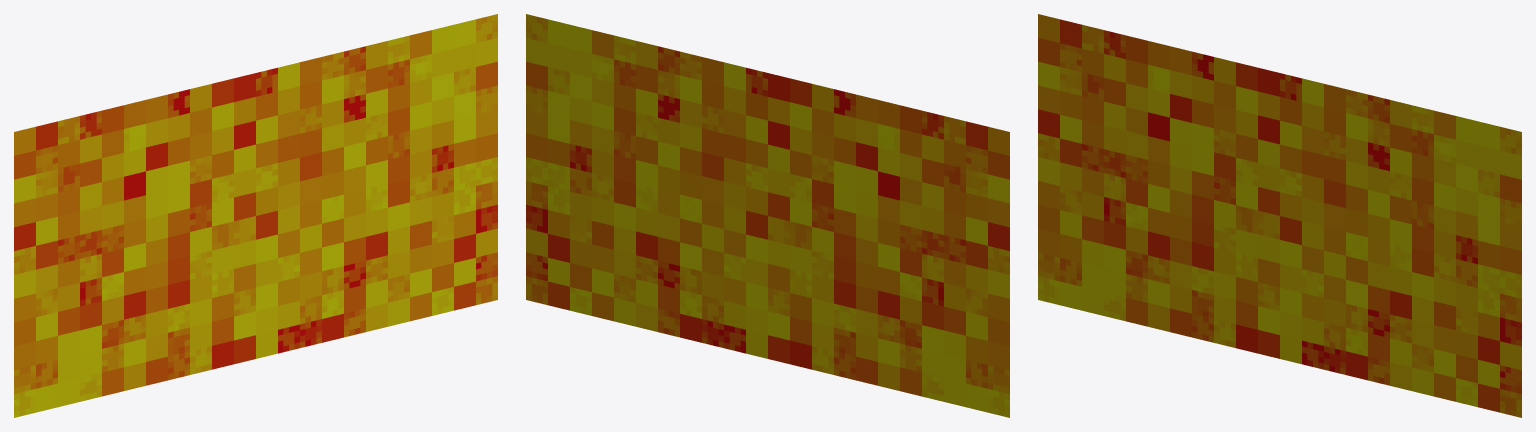
File: videoPlane.glb
3 views of the same model, side by side, from view 1: azimuth 30°, elevation 25°; view 2: azimuth 150°, elevation 25°; view 3: azimuth 330°, elevation 25° (orthographic).
Visible parts, largest first — view 1: geo1; view 2: geo1; view 3: geo1.
Boxes of the visible parts, x1,y1,x2,y2 form: geo1: (14,14,497,417); geo1: (526,14,1009,417); geo1: (1038,14,1521,417).
Size of the model in its own units: 1.77 by 1 by 0.
